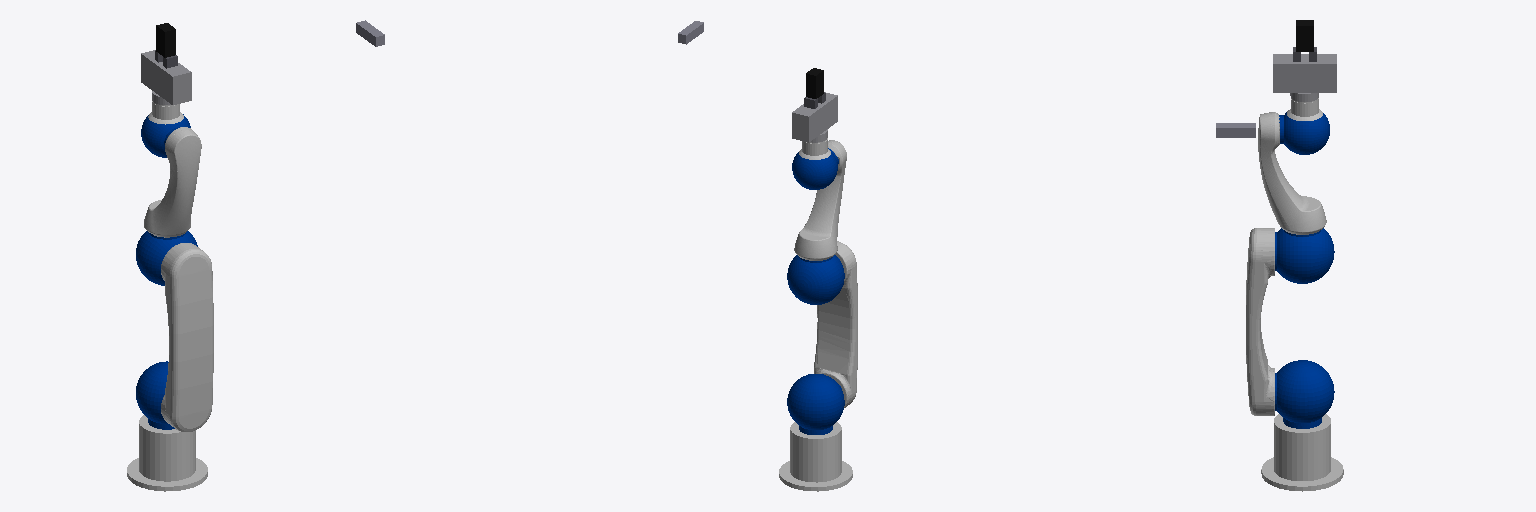
The robot description file, URDF, robot "lwa4p_wsg50":
<?xml version="1.0"?>
<!-- GENERATED by isaac/tools/make_isaac_urdf.py - do not edit by hand.
     Schunk LWA 4P + WSG 50-110 + RealSense D435 for Isaac Sim. See isaac/README.md -->
<robot name="lwa4p_wsg50">
  <material name="schunk_blue">
    <color rgba="0.0 0.25 0.6 1.0" />
  </material>
  <material name="schunk_grey">
    <color rgba="0.75 0.75 0.75 1.0" />
  </material>
  <link name="world" />
  <joint name="arm_podest_joint" type="fixed">
    <parent link="world" />
    <child link="arm_podest_link" />
    <origin rpy="0 0 0" xyz="0 0 0" />
  </joint>
  <link name="arm_podest_link">
    <visual>
      <origin xyz="0 0 -0.0990" rpy="0 0 0" />
      <geometry>
        <cylinder radius="0.093" length="0.0120" />
      </geometry>
      <material name="schunk_grey" />
    </visual>
    <visual>
      <origin xyz="0 0 -0.0325" rpy="0 0 0" />
      <geometry>
        <cylinder radius="0.065" length="0.1210" />
      </geometry>
      <material name="schunk_grey" />
    </visual>
    <collision>
      <origin xyz="0 0 -0.0990" rpy="0 0 0" />
      <geometry>
        <cylinder radius="0.093" length="0.0120" />
      </geometry>
    </collision>
    <collision>
      <origin xyz="0 0 -0.0325" rpy="0 0 0" />
      <geometry>
        <cylinder radius="0.065" length="0.1210" />
      </geometry>
    </collision>
    <inertial>
      <origin xyz="0.00000 0.00000 -0.05467" rpy="0 0 0" />
      <mass value="3.0000" />
      <inertia ixx="0.00967508" ixy="0" ixz="0" iyy="0.00967508" iyz="0" izz="0.0085495" />
    </inertial>
  </link>
  <joint name="arm_base_joint" type="fixed">
    <parent link="arm_podest_link" />
    <child link="arm_base_link" />
    <origin rpy="0 0 0" xyz="0 0 0.10" />
  </joint>
  <link name="arm_base_link">
    <inertial>
      <origin xyz="0.00000 0.00000 0.00000" rpy="0 0 0" />
      <mass value="0.0100" />
      <inertia ixx="1e-06" ixy="0" ixz="0" iyy="1e-06" iyz="0" izz="1e-06" />
    </inertial>
  </link>
  <joint name="arm_1_joint" type="revolute">
    <origin rpy="0 0 0" xyz="0 0 0" />
    <parent link="arm_base_link" />
    <child link="arm_1_link" />
    <axis xyz="0 0 1" />
    <limit effort="64.0" lower="-2.96706" upper="2.96706" velocity="1.25664" />
  </joint>
  <link name="arm_1_link">
    <visual>
      <geometry>
        <mesh filename="meshes/arm_1_link.stl" />
      </geometry>
      <material name="schunk_blue" />
    </visual>
    <collision>
      <geometry>
        <mesh filename="meshes/arm_1_link.stl" />
      </geometry>
    </collision>
    <inertial>
      <origin xyz="-0.00000 -0.00782 -0.00783" rpy="0 0 0" />
      <mass value="3.9000" />
      <inertia ixx="0.0115005" ixy="-1.733e-07" ixz="5.48936e-08" iyy="0.00940272" iyz="0.000238771" izz="0.00939147" />
    </inertial>
  </link>
  <joint name="arm_2_joint" type="revolute">
    <origin rpy="1.5708 0 0" xyz="0 0 0" />
    <parent link="arm_1_link" />
    <child link="arm_2_link" />
    <axis xyz="0 0 1" />
    <limit effort="64.0" lower="-2.96706" upper="2.96706" velocity="1.25664" />
  </joint>
  <link name="arm_2_link">
    <visual>
      <geometry>
        <mesh filename="meshes/arm_2_link.stl" />
      </geometry>
      <material name="schunk_grey" />
    </visual>
    <collision>
      <geometry>
        <mesh filename="meshes/arm_2_link.stl" />
      </geometry>
    </collision>
    <inertial>
      <origin xyz="-0.00000 0.17504 0.09923" rpy="0 0 0" />
      <mass value="1.4000" />
      <inertia ixx="0.0289359" ixy="-2.67389e-07" ixz="-4.15659e-08" iyy="0.00240671" iyz="-1.23178e-06" izz="0.0301731" />
    </inertial>
  </link>
  <joint name="arm_3_joint" type="revolute">
    <origin rpy="0 3.14159 0" xyz="0 0.350 0" />
    <parent link="arm_2_link" />
    <child link="arm_3_link" />
    <axis xyz="0 0 1" />
    <limit effort="64.0" lower="-2.70526" upper="2.70526" velocity="1.25664" />
  </joint>
  <link name="arm_3_link">
    <visual>
      <geometry>
        <mesh filename="meshes/arm_3_link.stl" />
      </geometry>
      <material name="schunk_blue" />
    </visual>
    <collision>
      <geometry>
        <mesh filename="meshes/arm_3_link.stl" />
      </geometry>
    </collision>
    <inertial>
      <origin xyz="0.00000 0.00782 -0.00783" rpy="0 0 0" />
      <mass value="3.9000" />
      <inertia ixx="0.0115005" ixy="-1.733e-07" ixz="-5.48936e-08" iyy="0.00940272" iyz="-0.000238771" izz="0.00939147" />
    </inertial>
  </link>
  <joint name="arm_4_joint" type="revolute">
    <origin rpy="-1.5708 3.14159 0" xyz="0 0 0" />
    <parent link="arm_3_link" />
    <child link="arm_4_link" />
    <axis xyz="0 0 1" />
    <limit effort="64.0" lower="-2.96706" upper="2.96706" velocity="1.25664" />
  </joint>
  <link name="arm_4_link">
    <visual>
      <geometry>
        <mesh filename="meshes/arm_4_link.stl" />
      </geometry>
      <material name="schunk_grey" />
    </visual>
    <collision>
      <geometry>
        <mesh filename="meshes/arm_4_link.stl" />
      </geometry>
    </collision>
    <inertial>
      <origin xyz="0.00007 -0.04557 0.18152" rpy="0 0 0" />
      <mass value="1.0000" />
      <inertia ixx="0.00834709" ixy="-2.53368e-06" ixz="3.02371e-06" iyy="0.0073495" iyz="0.00245067" izz="0.00229384" />
    </inertial>
  </link>
  <joint name="arm_5_joint" type="revolute">
    <origin rpy="1.5708 0 3.14159" xyz="0 0.005263 0.305" />
    <parent link="arm_4_link" />
    <child link="arm_5_link" />
    <axis xyz="0 0 1" />
    <limit effort="19.0" lower="-2.96706" upper="2.96706" velocity="1.25664" />
  </joint>
  <link name="arm_5_link">
    <visual>
      <geometry>
        <mesh filename="meshes/arm_5_link.stl" />
      </geometry>
      <material name="schunk_blue" />
    </visual>
    <collision>
      <geometry>
        <mesh filename="meshes/arm_5_link.stl" />
      </geometry>
    </collision>
    <inertial>
      <origin xyz="-0.00000 -0.00275 -0.00563" rpy="0 0 0" />
      <mass value="1.5000" />
      <inertia ixx="0.00222106" ixy="-4.90328e-10" ixz="-5.15389e-09" iyy="0.00239755" iyz="2.32417e-05" izz="0.00176111" />
    </inertial>
  </link>
  <joint name="arm_6_joint" type="revolute">
    <origin rpy="-1.5708 0 0" xyz="0 0 0" />
    <parent link="arm_5_link" />
    <child link="arm_6_link" />
    <axis xyz="0 0 1" />
    <limit effort="19.0" lower="-2.96706" upper="2.96706" velocity="1.25664" />
  </joint>
  <link name="arm_6_link">
    <visual>
      <geometry>
        <mesh filename="meshes/arm_6_link.stl" />
      </geometry>
      <material name="schunk_grey" />
    </visual>
    <collision>
      <geometry>
        <mesh filename="meshes/arm_6_link.stl" />
      </geometry>
    </collision>
    <inertial>
      <origin xyz="0.00000 0.00000 0.06092" rpy="0 0 0" />
      <mass value="0.3000" />
      <inertia ixx="0.000135216" ixy="-2.09026e-09" ixz="-5.2417e-09" iyy="0.000135199" iyz="5.8365e-10" izz="0.000168197" />
    </inertial>
  </link>
  <joint name="arm_tool0_joint" type="fixed">
    <parent link="arm_6_link" />
    <child link="arm_tool0" />
    <origin rpy="0 0 0" xyz="0 0 0.084" />
  </joint>
  <link name="arm_tool0" />
  <material name="wsg_grey">
    <color rgba="0.6 0.6 0.62 1.0" />
  </material>
  <material name="wsg_jaw">
    <color rgba="0.35 0.35 0.38 1.0" />
  </material>
  <material name="wsg_black">
    <color rgba="0.1 0.1 0.1 1.0" />
  </material>
  <joint name="gripper_adapter_joint" type="fixed">
    <parent link="arm_tool0" />
    <child link="gripper_adapter_link" />
    <origin rpy="0 0 1.5708" xyz="0 0 0" />
  </joint>
  <link name="gripper_adapter_link">
    <visual>
      <origin xyz="0 0 0.01" />
      <geometry>
        <cylinder length="0.02" radius="0.0325" />
      </geometry>
      <material name="wsg_grey" />
    </visual>
    <collision>
      <origin xyz="0 0 0.01" />
      <geometry>
        <cylinder length="0.02" radius="0.0325" />
      </geometry>
    </collision>
    <inertial>
      <origin xyz="0.00000 0.00000 0.01000" rpy="0 0 0" />
      <mass value="0.1792" />
      <inertia ixx="5.32899e-05" ixy="0" ixz="0" iyy="5.32899e-05" iyz="0" izz="9.4634e-05" />
    </inertial>
  </link>
  <joint name="gripper_body_joint" type="fixed">
    <parent link="gripper_adapter_link" />
    <child link="gripper_body_link" />
    <origin rpy="0 0 0" xyz="0 0 0.02" />
  </joint>
  <link name="gripper_body_link">
    <visual>
      <origin xyz="0 0 0.03625" />
      <geometry>
        <box size="0.146 0.05 0.0725" />
      </geometry>
      <material name="wsg_grey" />
    </visual>
    <collision>
      <origin xyz="0 0 0.03625" />
      <geometry>
        <box size="0.146 0.05 0.0725" />
      </geometry>
    </collision>
    <inertial>
      <origin xyz="0.00000 0.00000 0.03625" rpy="0 0 0" />
      <mass value="1.0800" />
      <inertia ixx="0.000698073" ixy="0" ixz="0" iyy="0.00239154" iyz="0" izz="0.00214347" />
    </inertial>
  </link>
  <joint name="gripper_finger_left_joint" type="prismatic">
    <parent link="gripper_body_link" />
    <child link="gripper_finger_left_link" />
    <origin rpy="0 0 0" xyz="0 0 0.0725" />
    <axis xyz="-1 0 0" />
    <limit effort="80.0" lower="0.0" upper="0.04525" velocity="0.21" />
  </joint>
  <link name="gripper_finger_left_link">
    <visual>
      <origin xyz="-0.01875 0 0.012" />
      <geometry>
        <box size="0.018 0.03 0.024" />
      </geometry>
      <material name="wsg_jaw" />
    </visual>
    <visual>
      <origin xyz="-0.01 0 0.05675" />
      <geometry>
        <box size="0.02 0.03 0.0655" />
      </geometry>
      <material name="wsg_black" />
    </visual>
    <collision>
      <origin xyz="-0.01875 0 0.012" />
      <geometry>
        <box size="0.018 0.03 0.024" />
      </geometry>
    </collision>
    <collision>
      <origin xyz="-0.01 0 0.05675" />
      <geometry>
        <box size="0.02 0.03 0.0655" />
      </geometry>
    </collision>
    <inertial>
      <origin xyz="-0.01217 0.00000 0.04565" rpy="0 0 0" />
      <mass value="0.1411" />
      <inertia ixx="0.000102895" ixy="0" ixz="-1.03037e-05" iyy="9.88087e-05" iyz="0" izz="1.70791e-05" />
    </inertial>
  </link>
  <joint name="gripper_finger_right_joint" type="prismatic">
    <parent link="gripper_body_link" />
    <child link="gripper_finger_right_link" />
    <origin rpy="0 0 0" xyz="0 0 0.0725" />
    <axis xyz="1 0 0" />
    <limit effort="80.0" lower="0.0" upper="0.04525" velocity="0.21" />
  </joint>
  <link name="gripper_finger_right_link">
    <visual>
      <origin xyz="0.01875 0 0.012" />
      <geometry>
        <box size="0.018 0.03 0.024" />
      </geometry>
      <material name="wsg_jaw" />
    </visual>
    <visual>
      <origin xyz="0.01 0 0.05675" />
      <geometry>
        <box size="0.02 0.03 0.0655" />
      </geometry>
      <material name="wsg_black" />
    </visual>
    <collision>
      <origin xyz="0.01875 0 0.012" />
      <geometry>
        <box size="0.018 0.03 0.024" />
      </geometry>
    </collision>
    <collision>
      <origin xyz="0.01 0 0.05675" />
      <geometry>
        <box size="0.02 0.03 0.0655" />
      </geometry>
    </collision>
    <inertial>
      <origin xyz="0.01217 0.00000 0.04565" rpy="0 0 0" />
      <mass value="0.1411" />
      <inertia ixx="0.000102895" ixy="0" ixz="1.03037e-05" iyy="9.88087e-05" iyz="0" izz="1.70791e-05" />
    </inertial>
  </link>
  <joint name="gripper_tcp_joint" type="fixed">
    <parent link="gripper_body_link" />
    <child link="gripper_tcp" />
    <origin rpy="0 0 0" xyz="0 0 0.14700000000000002" />
  </joint>
  <link name="gripper_tcp" />
  <joint name="camera_joint" type="fixed">
    <parent link="world" />
    <child link="camera_link" />
    <origin rpy="0 1.5707963267948966 0" xyz="0.45 -0.15 0.95" />
  </joint>
  <link name="camera_link">
    <visual>
      <origin xyz="-0.0125 0 0" />
      <geometry>
        <box size="0.025 0.090 0.025" />
      </geometry>
      <material name="realsense_grey">
        <color rgba="0.55 0.55 0.6 1.0" />
      </material>
    </visual>
    <collision>
      <origin xyz="-0.0125 0 0" />
      <geometry>
        <box size="0.025 0.090 0.025" />
      </geometry>
    </collision>
    <inertial>
      <origin xyz="-0.01250 0.00000 0.00000" rpy="0 0 0" />
      <mass value="0.0720" />
      <inertia ixx="5.235e-05" ixy="0" ixz="0" iyy="7.5e-06" iyz="0" izz="5.235e-05" />
    </inertial>
  </link>
  <joint name="camera_color_optical_joint" type="fixed">
    <parent link="camera_link" />
    <child link="camera_color_optical_frame" />
    <origin rpy="-1.5707963267948966 0 -1.5707963267948966" xyz="0 0 0" />
  </joint>
  <link name="camera_color_optical_frame" />
  <joint name="camera_depth_optical_joint" type="fixed">
    <parent link="camera_link" />
    <child link="camera_depth_optical_frame" />
    <origin rpy="-1.5707963267948966 0 -1.5707963267948966" xyz="0 0 0" />
  </joint>
  <link name="camera_depth_optical_frame" />
</robot>

--- Render facts (derived) ---
Views: 3 orthographic renders of the robot side by side, from view 1: azimuth 30°, elevation 25°; view 2: azimuth 150°, elevation 25°; view 3: azimuth 270°, elevation 25°.
Model lwa4p_wsg50 with 18 links and 17 joints (6 revolute, 2 prismatic, 9 fixed), rooted at world, posed all joints at 0.
Links seen in each view (by area): view 1: arm_2_link, arm_podest_link, arm_4_link, gripper_body_link, arm_1_link, arm_3_link, arm_5_link, gripper_finger_right_link, arm_6_link; view 2: arm_2_link, arm_podest_link, arm_4_link, arm_1_link, arm_3_link, gripper_body_link, arm_5_link; view 3: arm_podest_link, arm_2_link, arm_4_link, arm_1_link, arm_3_link, gripper_body_link, arm_5_link, arm_6_link, camera_link.
Boxes of the visible links, left/top/right/bottom form: arm_2_link: left=161, top=243, right=213, bottom=431; arm_podest_link: left=127, top=415, right=207, bottom=491; arm_4_link: left=144, top=127, right=201, bottom=237; gripper_body_link: left=141, top=50, right=191, bottom=104; arm_1_link: left=136, top=361, right=174, bottom=429; arm_3_link: left=136, top=231, right=197, bottom=285; arm_5_link: left=141, top=114, right=190, bottom=157; gripper_finger_right_link: left=161, top=26, right=177, bottom=68; arm_6_link: left=148, top=101, right=183, bottom=124; arm_2_link: left=814, top=241, right=857, bottom=407; arm_podest_link: left=779, top=422, right=852, bottom=491; arm_4_link: left=794, top=140, right=846, bottom=260; arm_1_link: left=787, top=374, right=844, bottom=434; arm_3_link: left=787, top=255, right=844, bottom=304; gripper_body_link: left=792, top=92, right=837, bottom=142; arm_5_link: left=792, top=148, right=838, bottom=189; arm_podest_link: left=1261, top=414, right=1343, bottom=491; arm_2_link: left=1246, top=228, right=1274, bottom=415; arm_4_link: left=1258, top=112, right=1326, bottom=234; arm_1_link: left=1275, top=360, right=1334, bottom=428; arm_3_link: left=1275, top=228, right=1334, bottom=283; gripper_body_link: left=1273, top=54, right=1336, bottom=92; arm_5_link: left=1279, top=112, right=1329, bottom=154; arm_6_link: left=1287, top=98, right=1322, bottom=120; camera_link: left=1216, top=123, right=1255, bottom=137.
Bounding box of the posed robot: 0.5555 × 0.288 × 1.13 m (x, y, z).
Meshes: 6 distinct files referenced, 6 mesh visuals loaded (6 binary STL).
